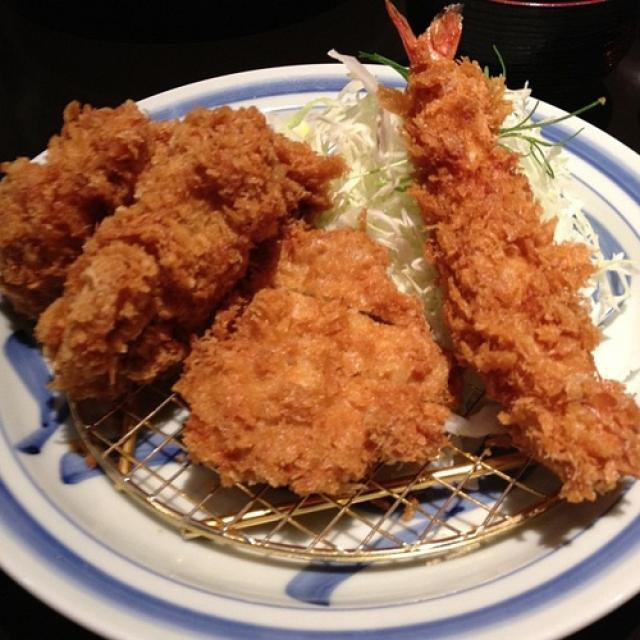牛肉菜式: (9, 42, 634, 604)
